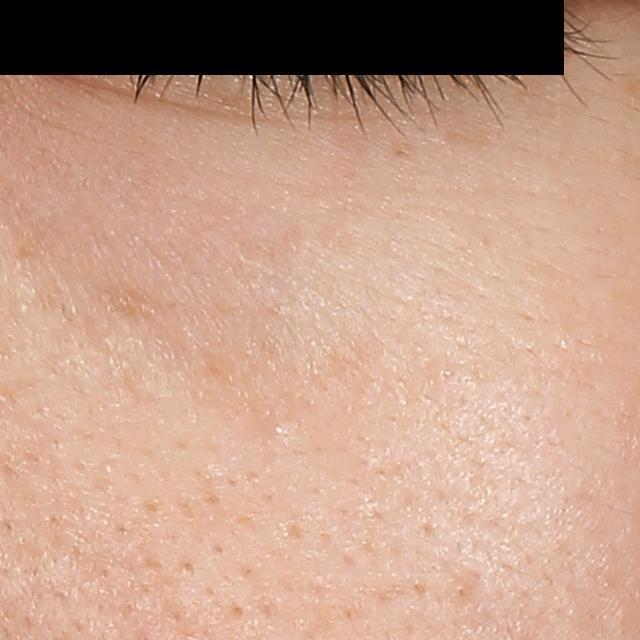comedo: (268, 420, 294, 446)
